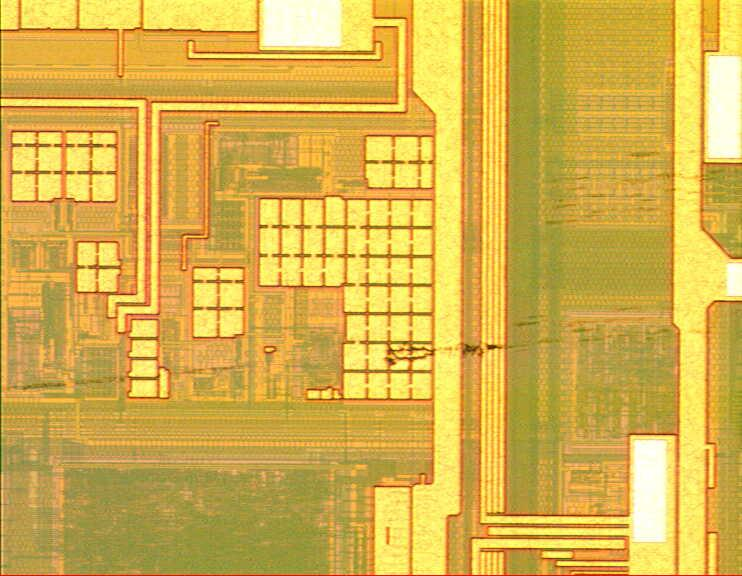SCRATCH: (2, 134, 742, 415)
